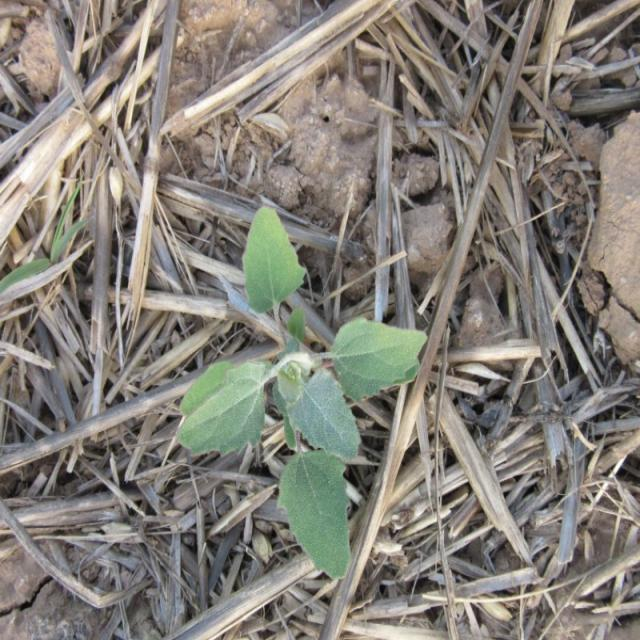ca: (188, 204, 427, 585)
